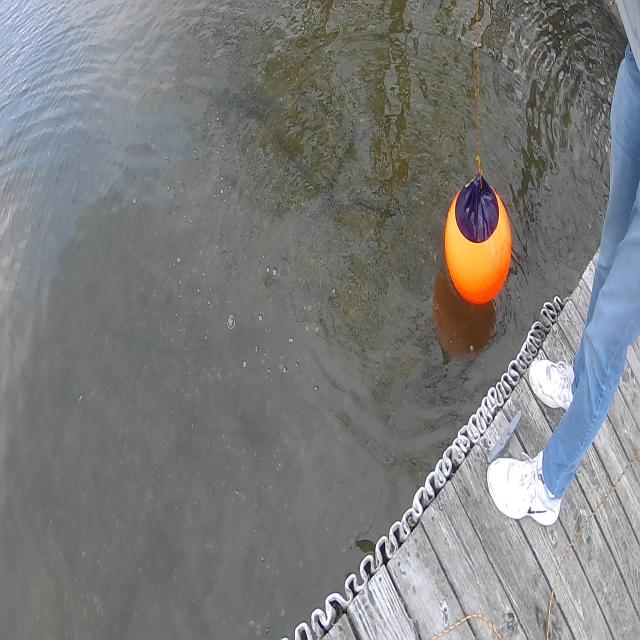Buoy: (428, 158, 522, 322)
